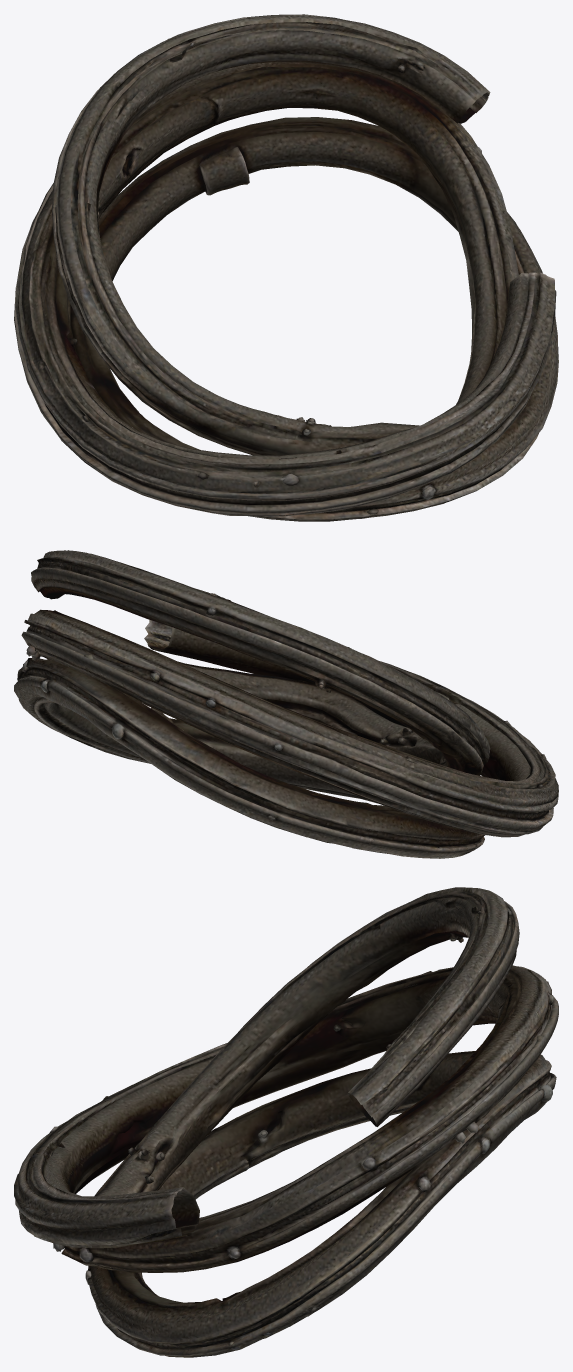
The model's file is prop-cable-coil-v01.glb.
3 views of the same model, one above another, from view 1: azimuth 30°, elevation 25°; view 2: azimuth 150°, elevation 25°; view 3: azimuth 270°, elevation 25° (orthographic). The views are drawn at different scales.
Visible parts, largest first — view 1: tripo_node_460e8c10-70b9-4f0f-831a-b60864f28b20; view 2: tripo_node_460e8c10-70b9-4f0f-831a-b60864f28b20; view 3: tripo_node_460e8c10-70b9-4f0f-831a-b60864f28b20.
Boxes of the visible parts, bbox=[...] form: tripo_node_460e8c10-70b9-4f0f-831a-b60864f28b20: bbox=[14, 14, 558, 521]; tripo_node_460e8c10-70b9-4f0f-831a-b60864f28b20: bbox=[14, 550, 558, 858]; tripo_node_460e8c10-70b9-4f0f-831a-b60864f28b20: bbox=[14, 887, 558, 1357].
Size of the model in its own units: 0.1155 by 0.078 by 0.1033.
Materials: 1 (1 with a texture image).
